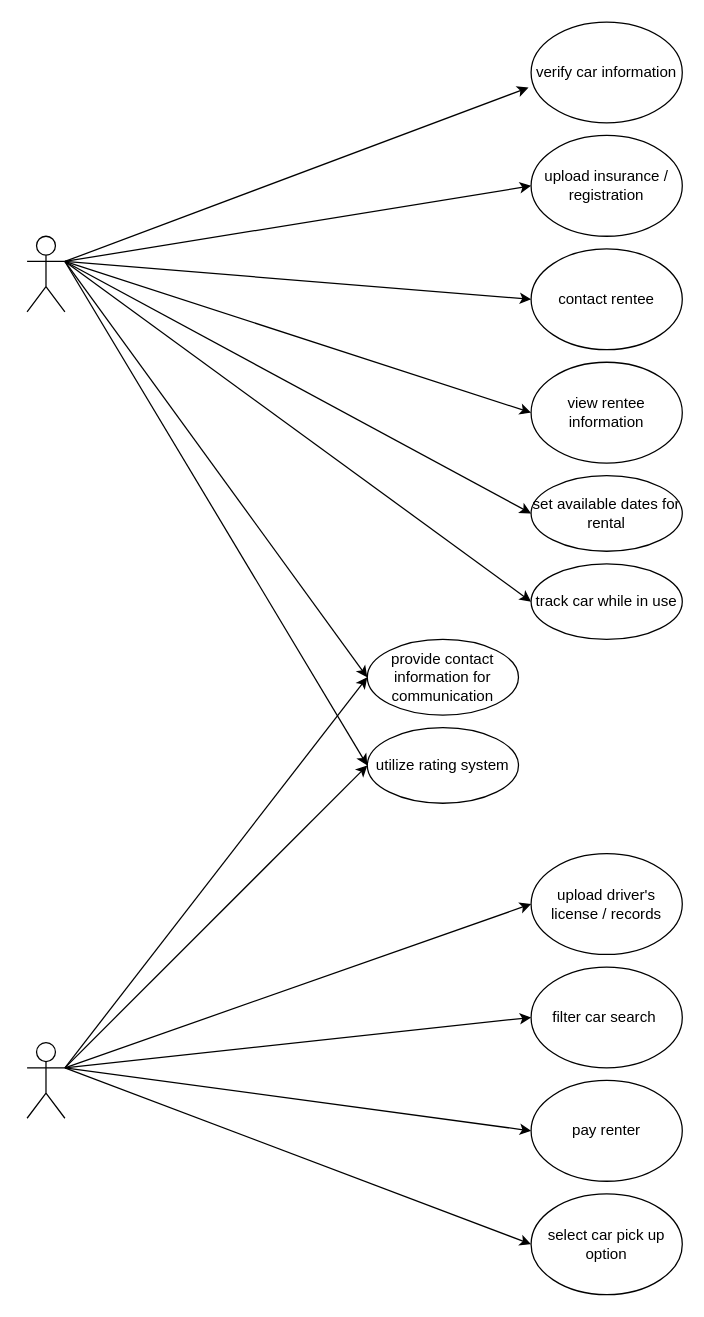
Image size: 704x1317. Some labels were removed from this diagram. The box of each missing label's shape, as (x1, y1, x2, y2) in pixels:
Rentee: (26, 1041, 65, 1118)
Renter: (26, 235, 65, 312)
